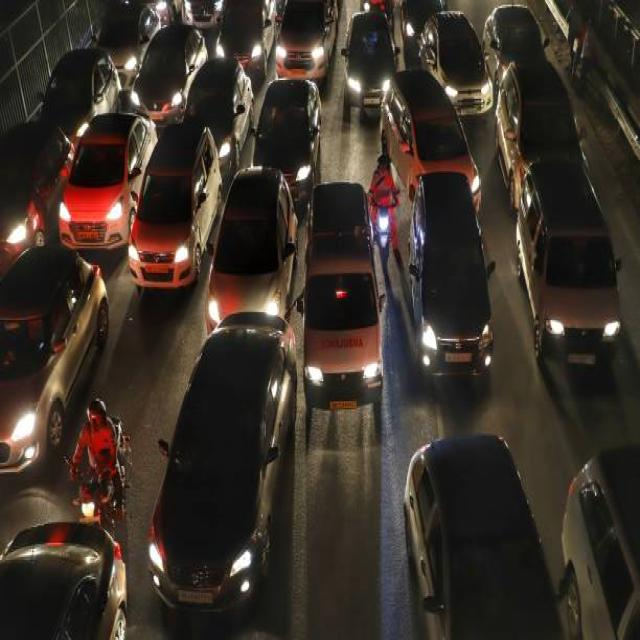ambulance: (311, 189, 379, 428), (319, 317, 364, 365)
